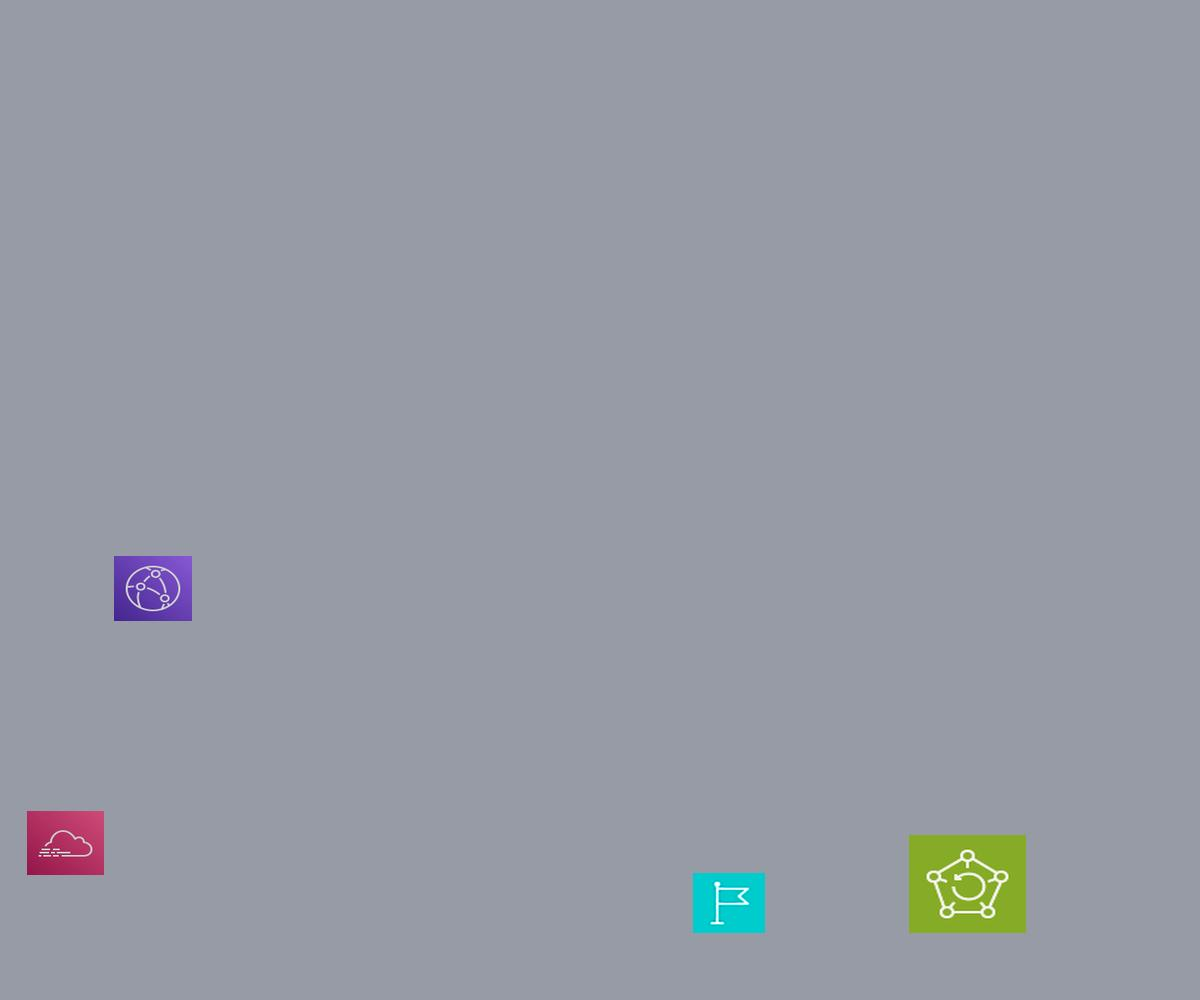AWS-Backup: (909, 835, 1026, 933)
AWS-CloudFront: (114, 556, 192, 621)
AWS-CloudTrail: (27, 811, 104, 875)
AWS-Region: (693, 873, 765, 933)
